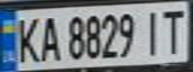2: (100, 10, 121, 60)
8: (81, 11, 103, 60), (63, 11, 84, 61)
9: (115, 9, 142, 58)
A: (33, 12, 63, 63)
I: (139, 7, 166, 56)
K: (9, 13, 42, 64)
T: (157, 4, 190, 55)
